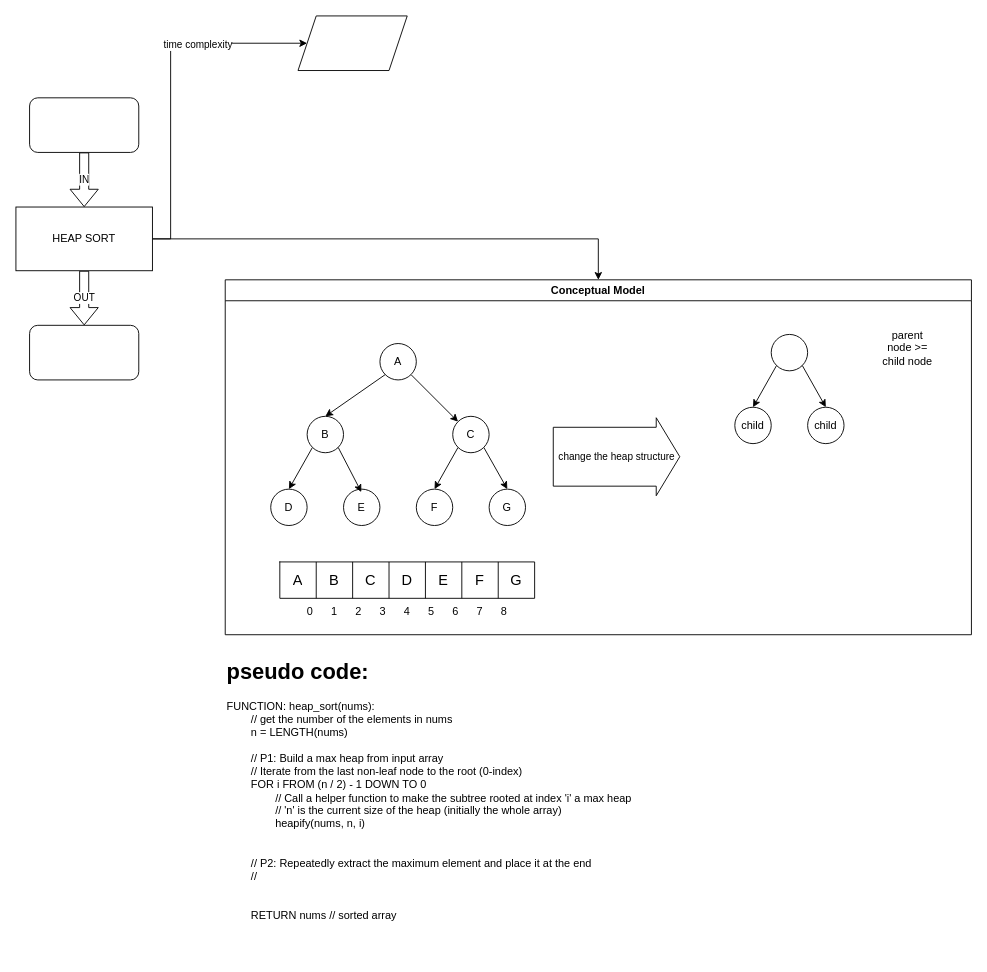
This 987x972 diagram has some shape labels left out. The centre of each missing label's shape, as x and y in pixels:
"O(n logn)" goes at point 352,43.
"par" goes at point 789,352.
"sorted_array" goes at point 84,352.
"usorted_array" goes at point 84,124.
